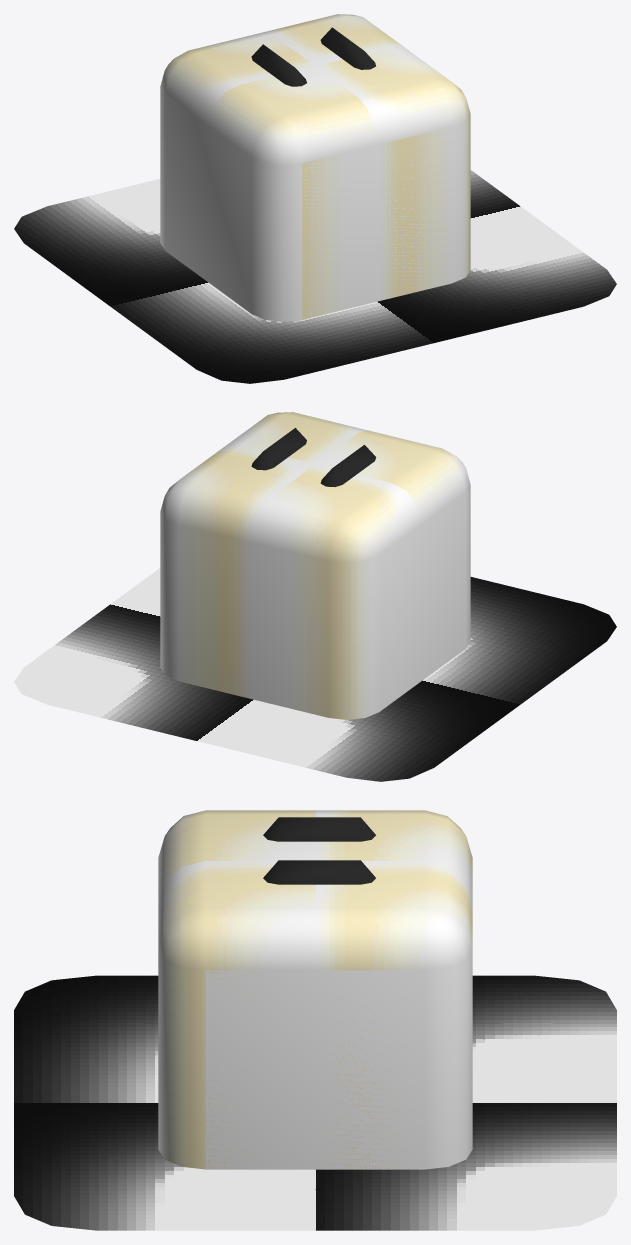
File: Lightblock.fbx
3 views of the same model, one above another, from view 1: azimuth 30°, elevation 25°; view 2: azimuth 150°, elevation 25°; view 3: azimuth 270°, elevation 25° (orthographic). The views are drawn at different scales.
Visible parts, largest first — view 1: block, light, eyes; view 2: block, light, eyes; view 3: block, light, eyes.
Part boxes in pixels (box(x1,y1,x2,y2)): block: box(160, 14, 470, 321); light: box(14, 170, 616, 383); eyes: box(251, 27, 375, 86); block: box(160, 412, 470, 719); light: box(14, 568, 616, 781); eyes: box(251, 428, 376, 486); block: box(158, 810, 472, 1169); light: box(14, 975, 616, 1230); eyes: box(263, 817, 375, 884).
Size of the model in its own units: 6143 by 2970 by 6143.
